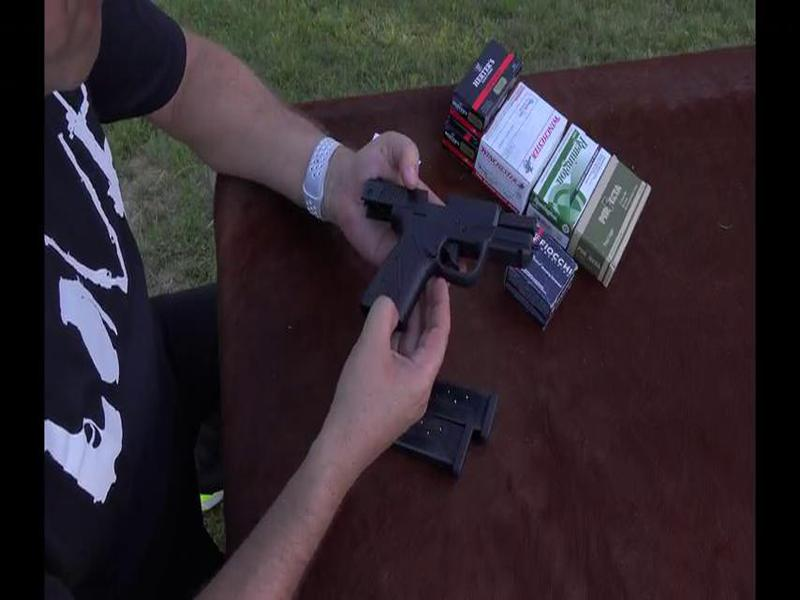Pistola: (347, 164, 570, 344)
